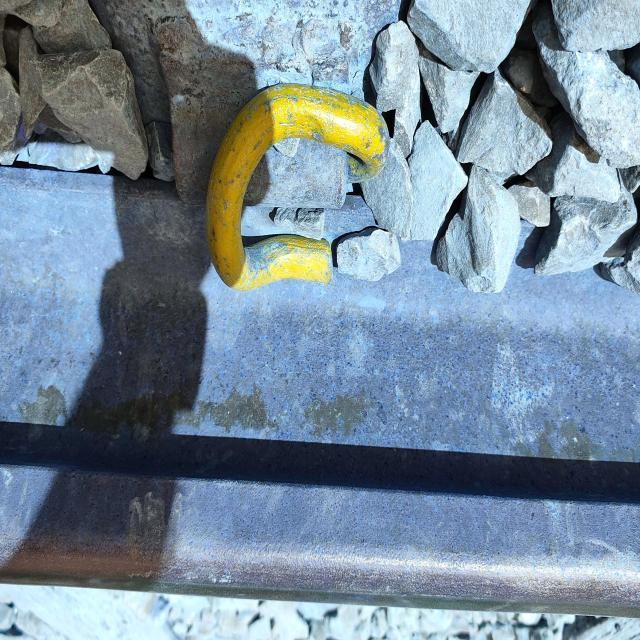Good Fasteners: (145, 7, 391, 320)
